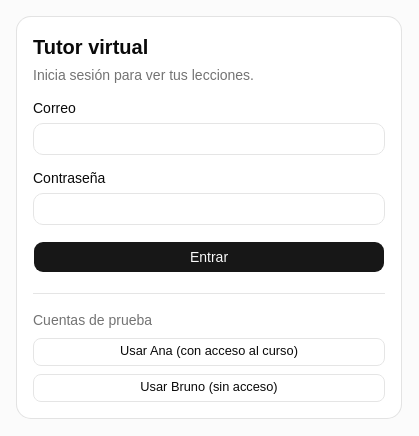
Test: LoginPage › fills in a demo account
Click the button "Usar Ana (con acceso al curso)" at (209, 352), box [33, 338, 385, 366]
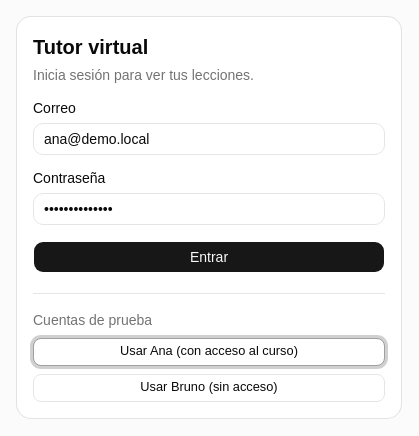
Check: the field labelled "Correo" holds "ana@demo.local", box [33, 122, 385, 154]
